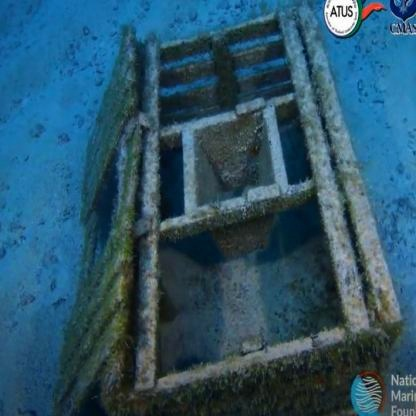misc: (108, 56, 353, 390)
